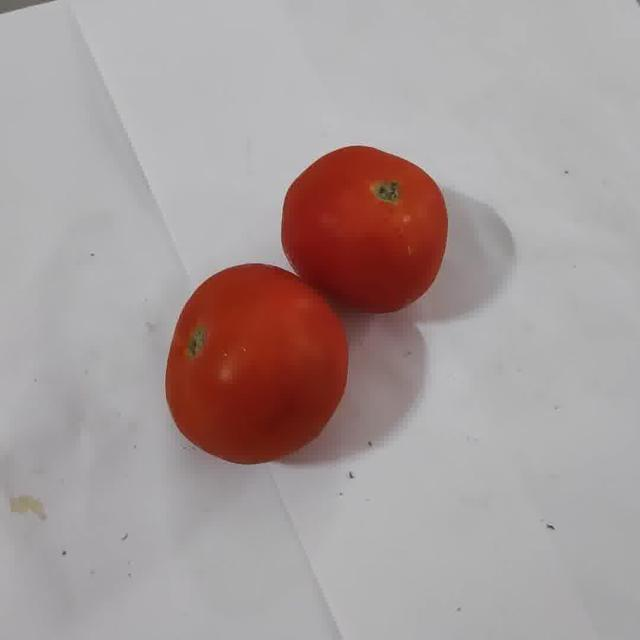Tomato: (165, 264, 347, 463), (281, 146, 447, 313)
